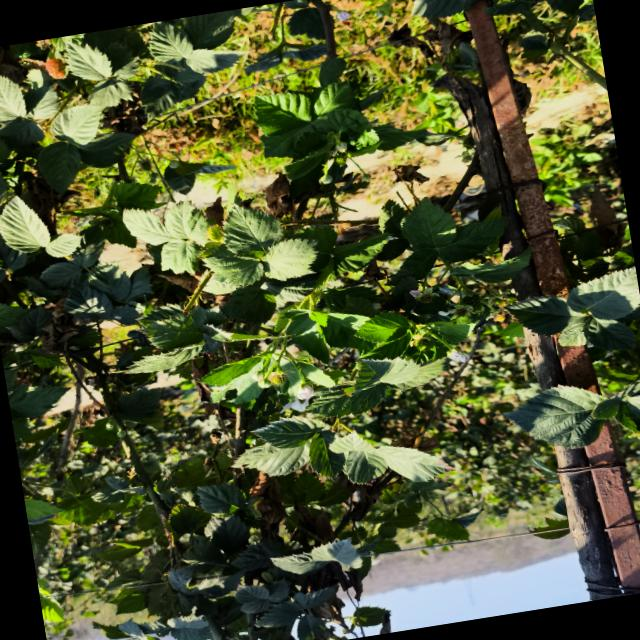boton: (296, 384, 314, 401), (251, 370, 265, 382), (257, 379, 271, 388), (322, 174, 333, 185), (336, 142, 347, 152), (361, 173, 371, 181)
